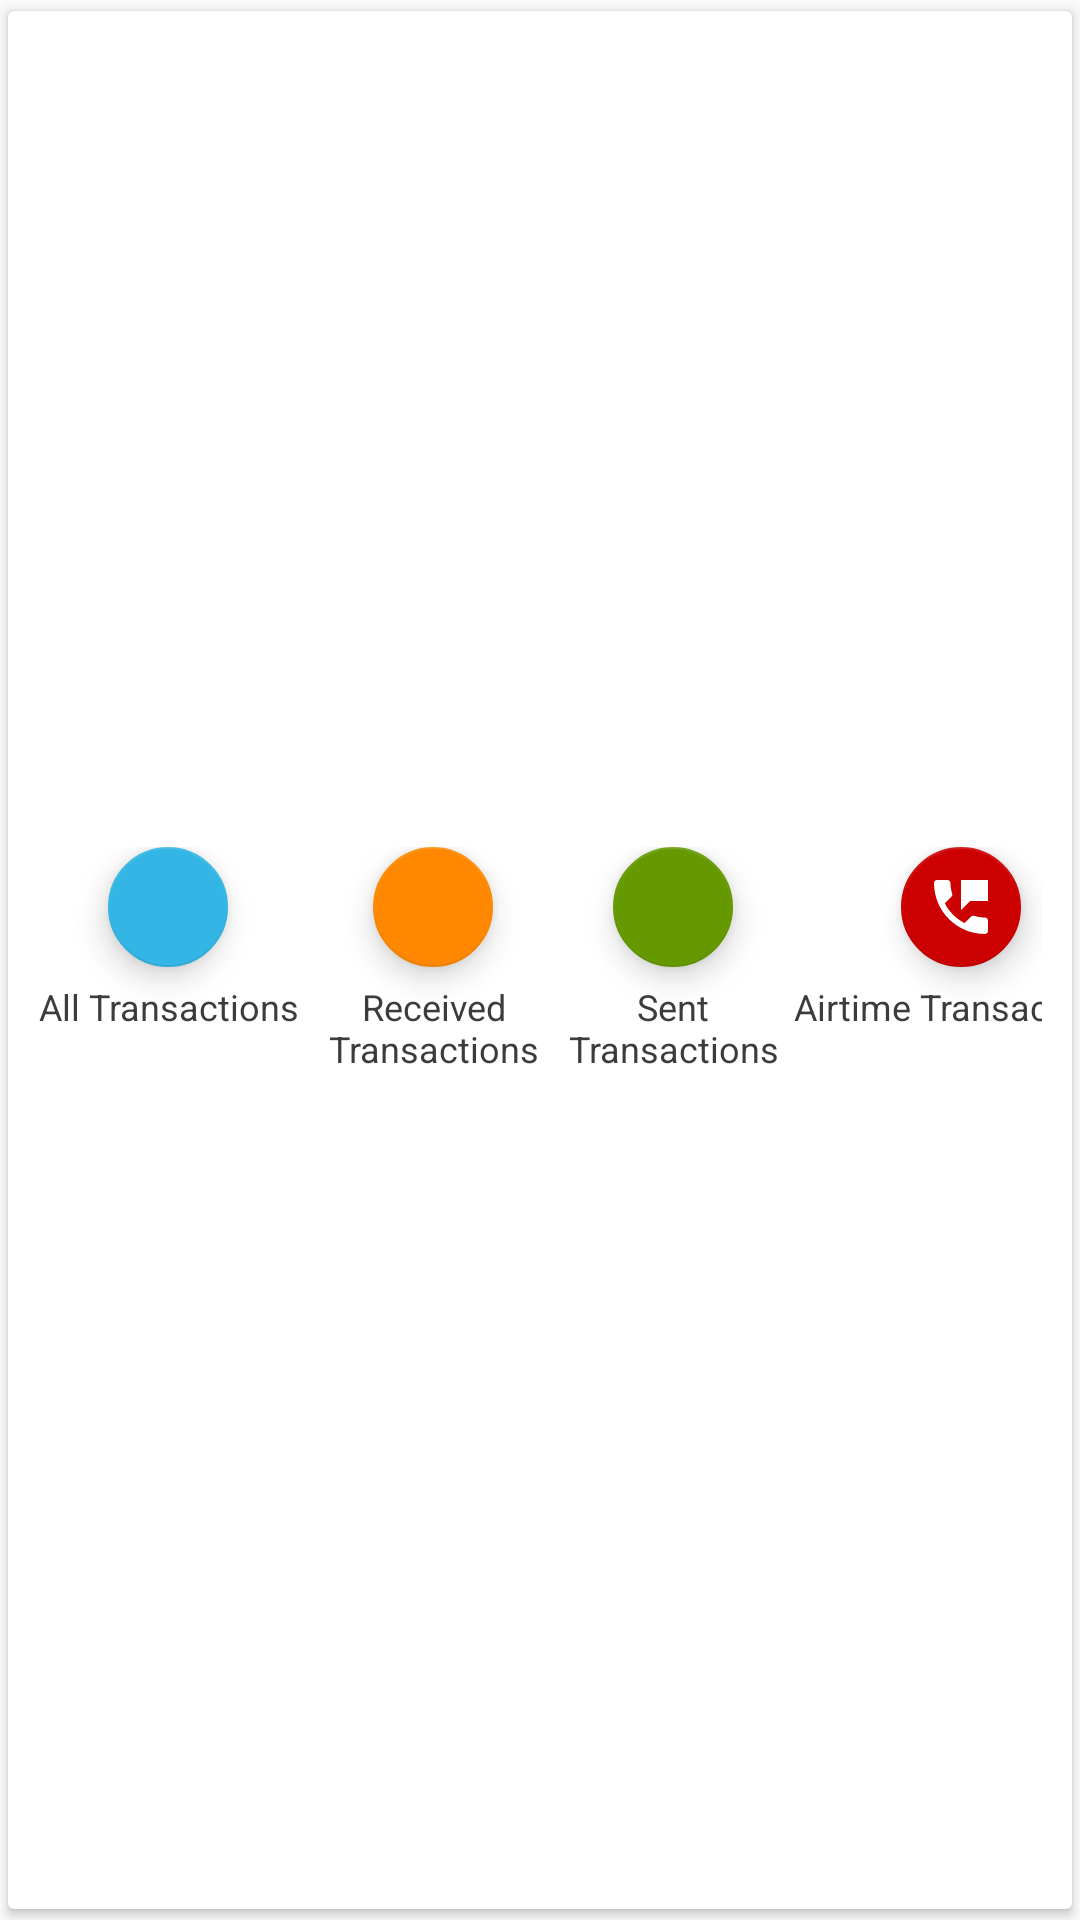

Icon click points for this 1080x1920 phone screenshot, format point (x, y):
perm phone msg: point (961, 907)
